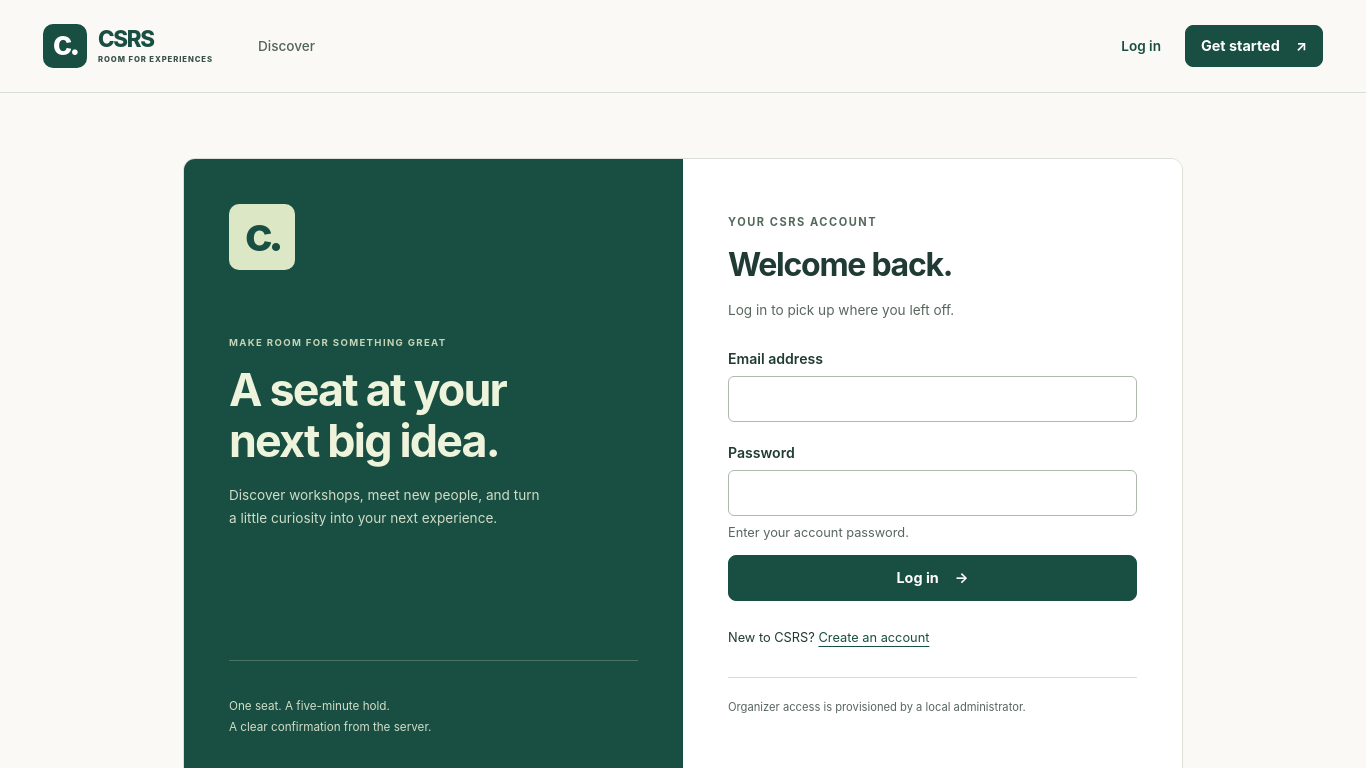
Test case: session and authentication interaction › logs in through the form and safely returns to reservations
In the field labelled "Email address": {"x": 932, "y": 399} [728,376,1137,422], type "attendee@example.com"
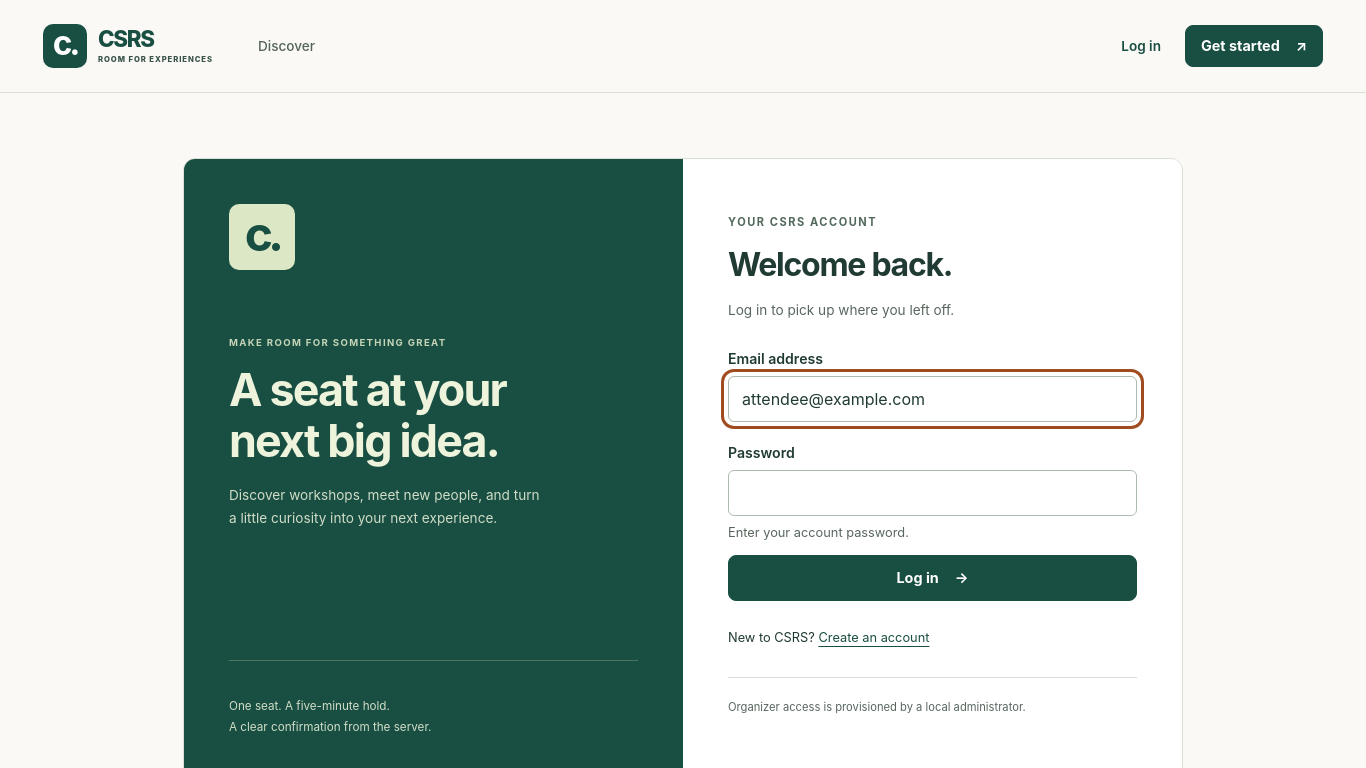
In the password field labelled "Password": {"x": 932, "y": 493} [728,470,1137,516], type "my password"
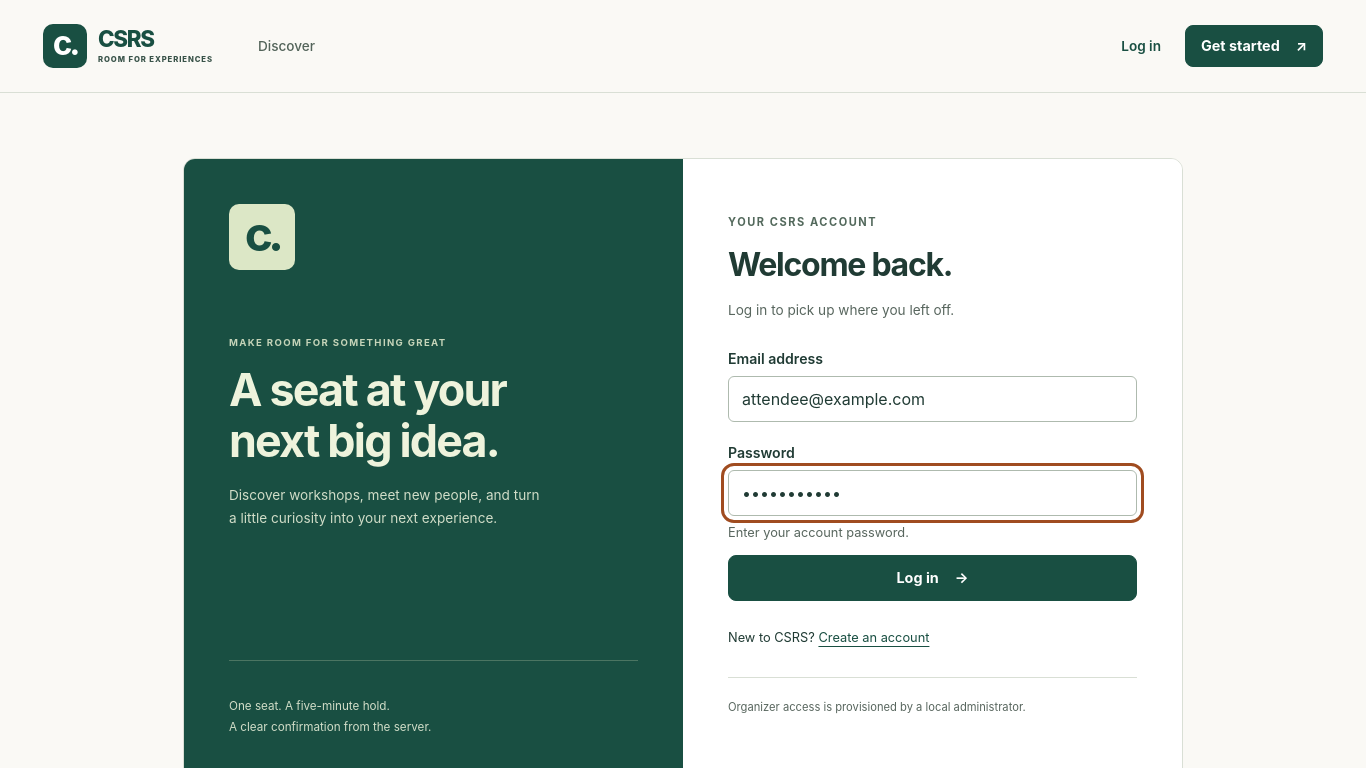
Click the button "Log in →": {"x": 932, "y": 578} [728,555,1137,601]
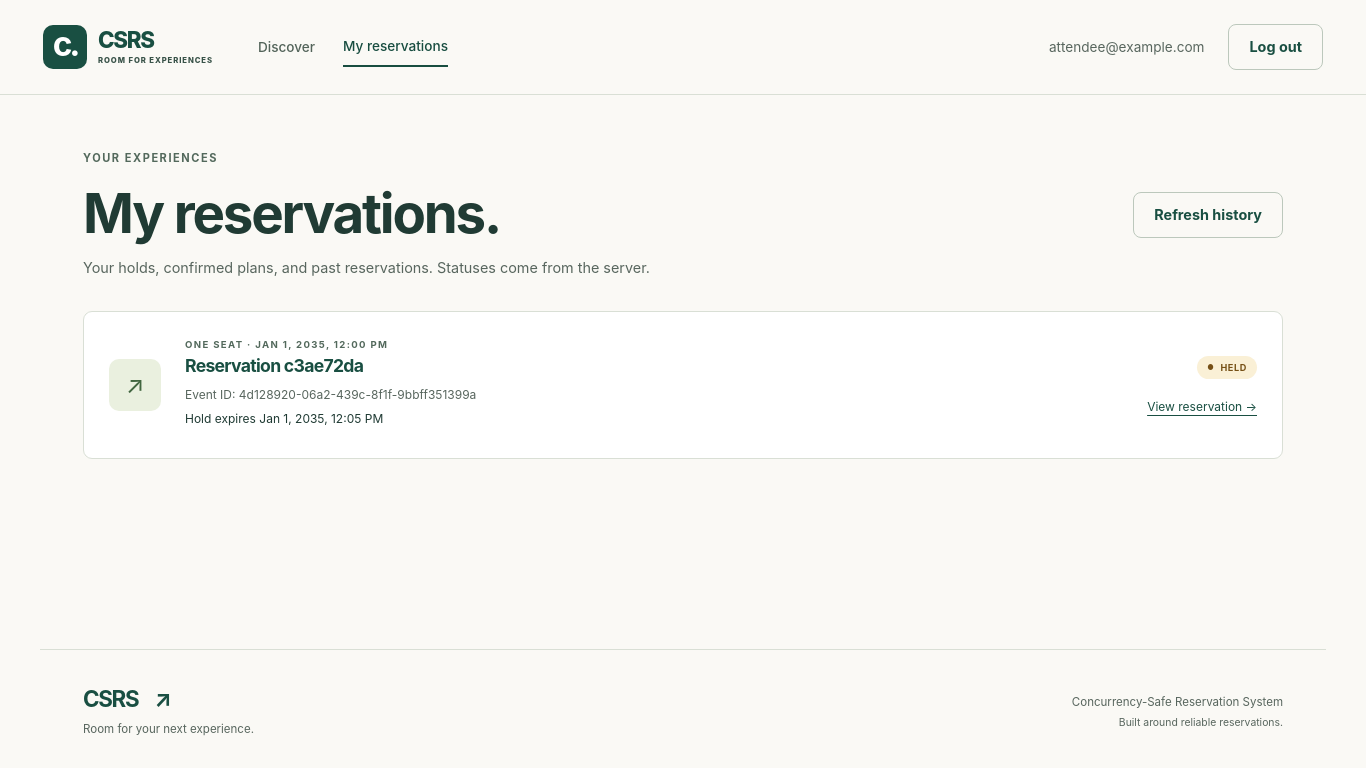
Now the heading "My reservations." is shown, box [83,180,500,246]
